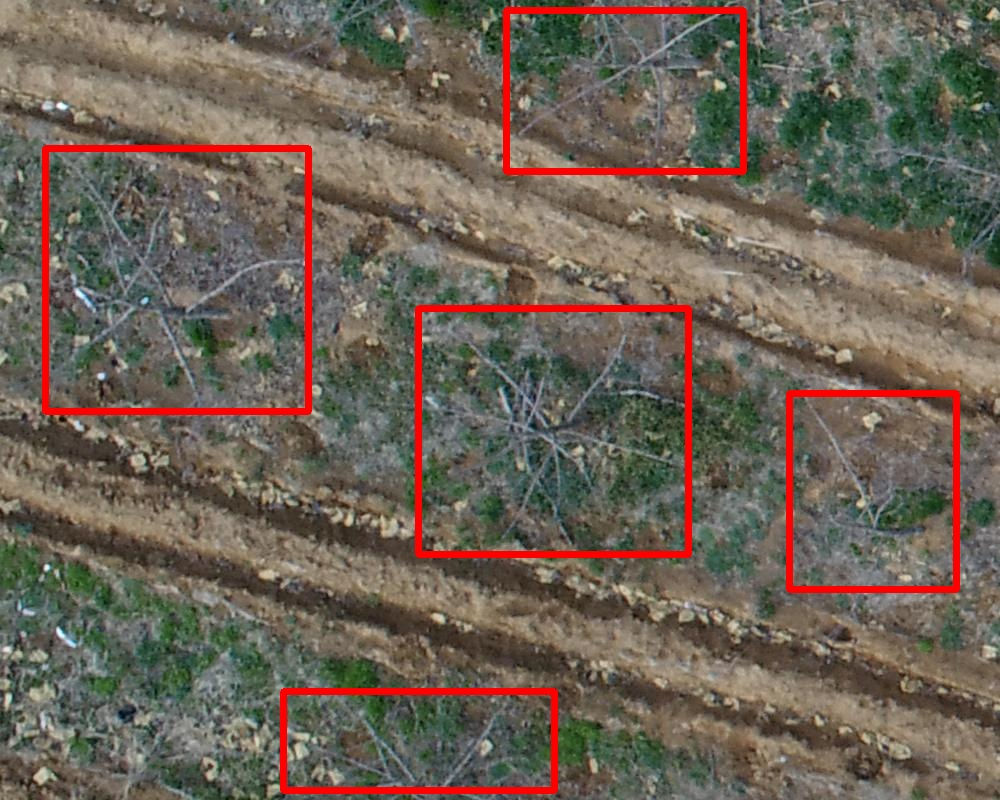apple: (45, 148, 308, 411), (418, 308, 688, 554), (506, 10, 743, 171), (789, 393, 956, 589), (283, 691, 554, 790)
